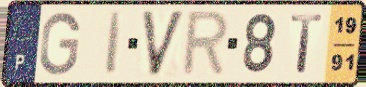8: (241, 12, 278, 77)
G: (37, 10, 83, 77)
I: (102, 9, 126, 78)
R: (178, 8, 232, 80)
T: (289, 13, 326, 75)
V: (139, 8, 188, 80)
